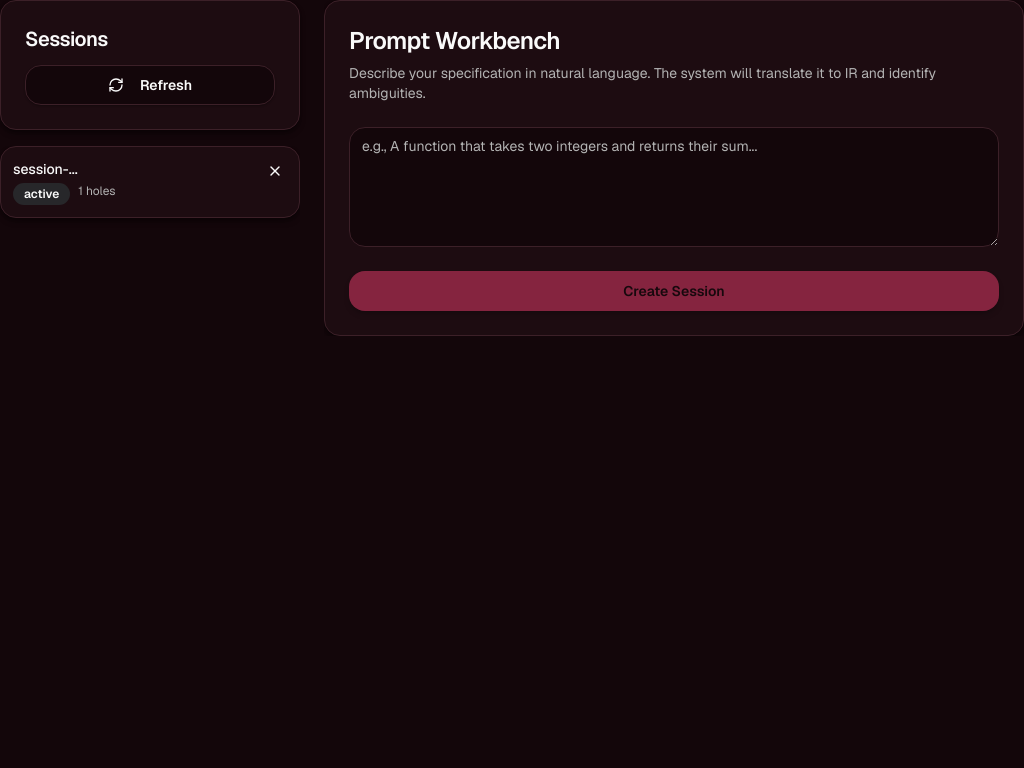
Test case: PromptWorkbenchView › shows active session details when selected
Expected: the text "session-..." is shown, [13, 160, 78, 178]
Step 1. Click the text "session-... active 1 holes" → (150, 182), box [0, 146, 300, 218]
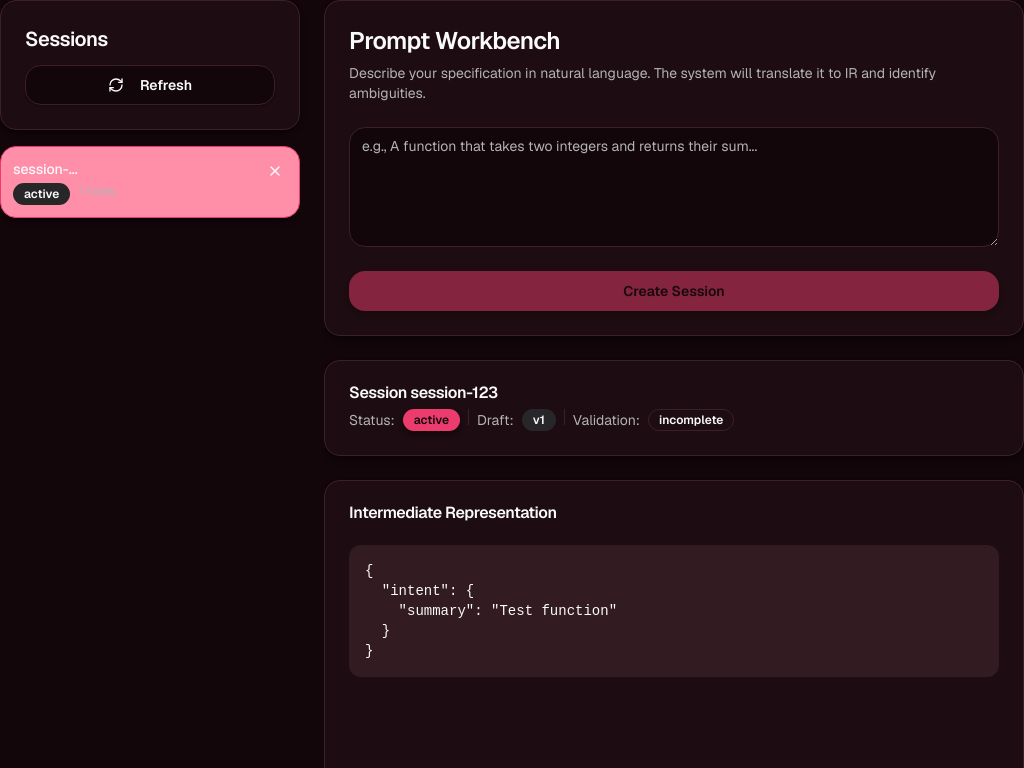
Result: the heading "Session session-123" is shown at [349, 382, 498, 403]
Result: the heading "Intermediate Representation" is shown at [349, 502, 557, 523]
